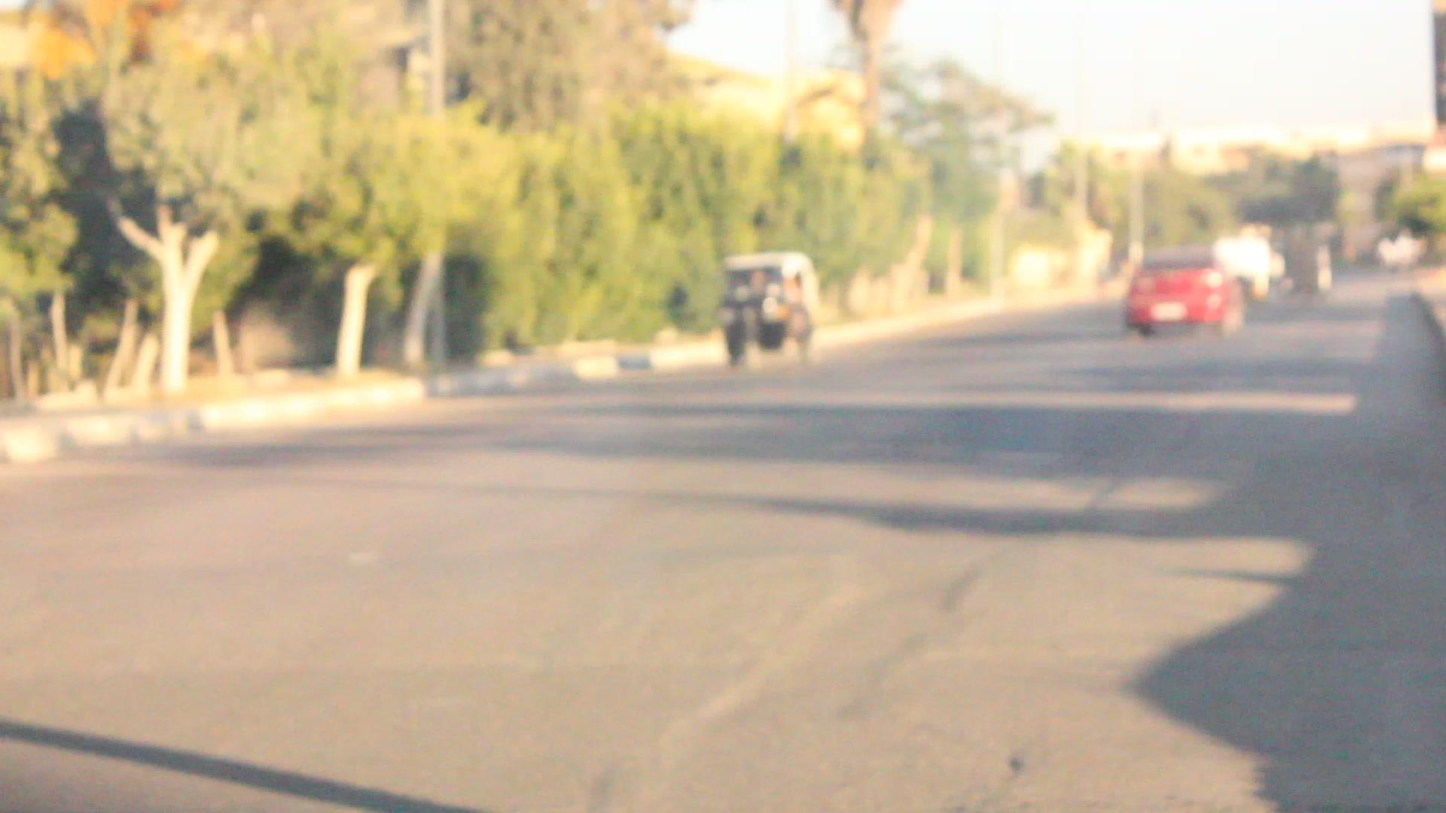Pothole: (599, 576, 1028, 802)
